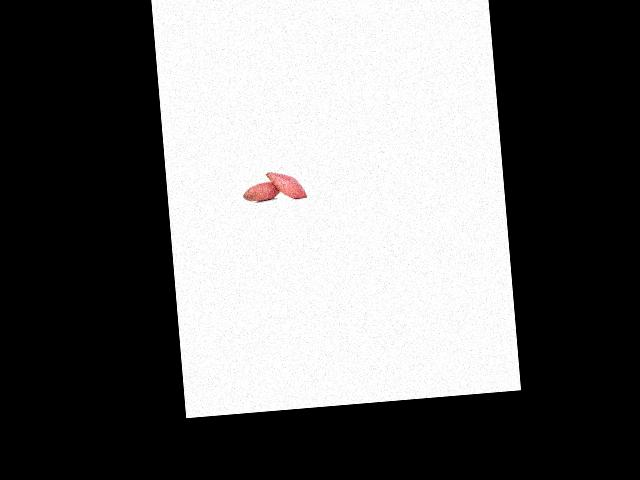sweet_potato: (240, 178, 284, 202)
